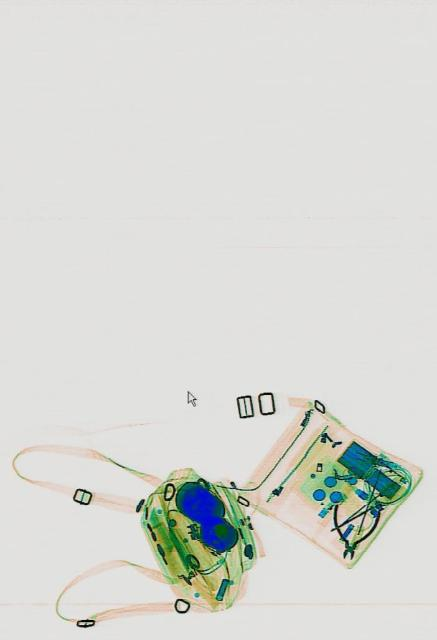Pliers: (325, 494, 380, 566)
